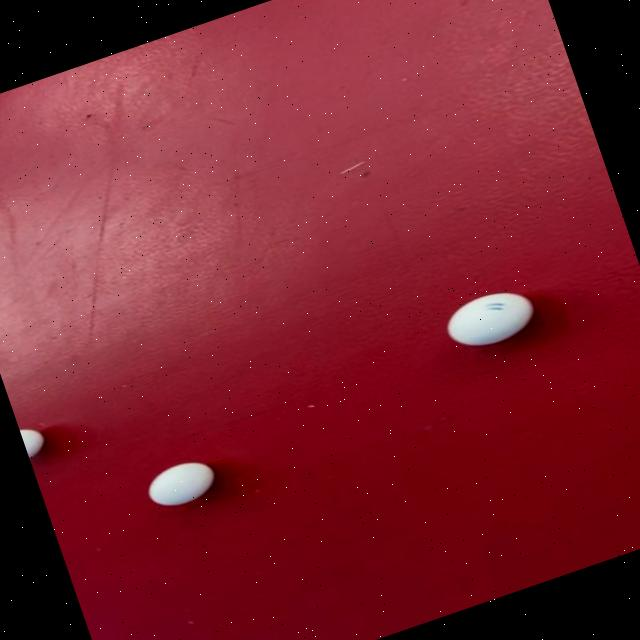ping-pong-ball: (430, 274, 554, 364), (132, 446, 232, 520), (16, 412, 57, 468)
